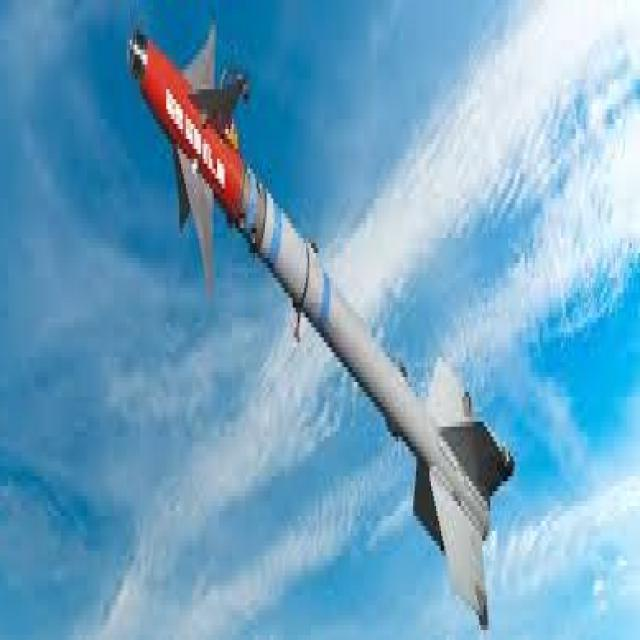missile: (122, 18, 498, 629)
